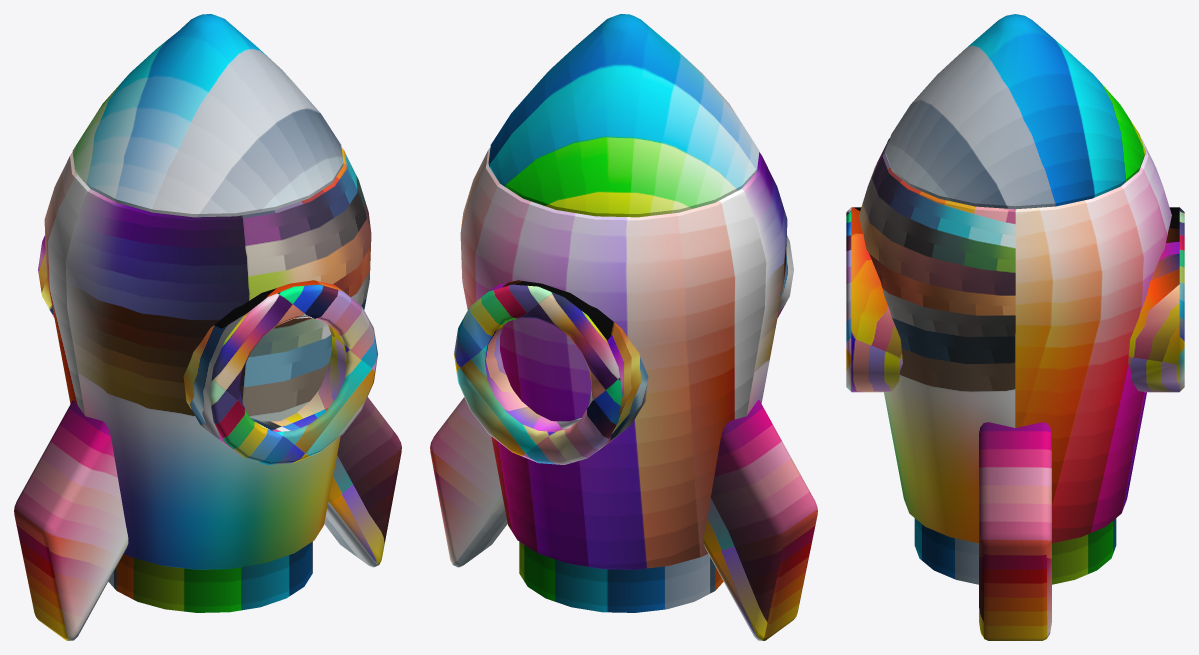
File: T1_L_Aircraft_Tx.fbx
The picture shows the model from 3 angles, left to right: view 1: azimuth 30°, elevation 25°; view 2: azimuth 150°, elevation 25°; view 3: azimuth 270°, elevation 25°; orthographic projection. The views are drawn at different scales.
Visible parts, largest first — view 1: T1_L_AirCraft_Tx; view 2: T1_L_AirCraft_Tx; view 3: T1_L_AirCraft_Tx.
Boxes of the visible parts, box(x1,y1,x2,y2) form: T1_L_AirCraft_Tx: box(14, 14, 401, 640); T1_L_AirCraft_Tx: box(430, 14, 817, 640); T1_L_AirCraft_Tx: box(846, 14, 1184, 640).
Bounding box in the file's own units: 116 × 179 × 99.41.
